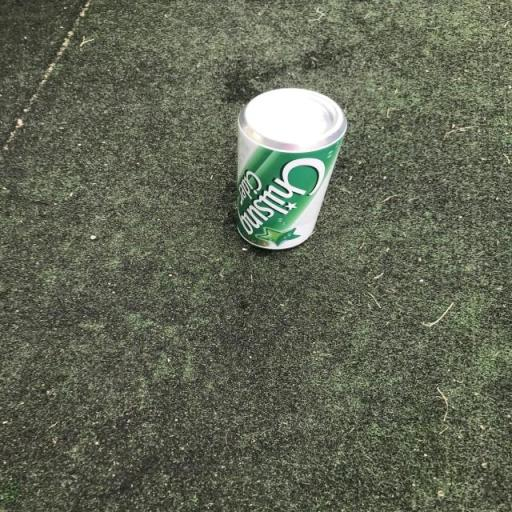metal: (208, 72, 360, 265)
